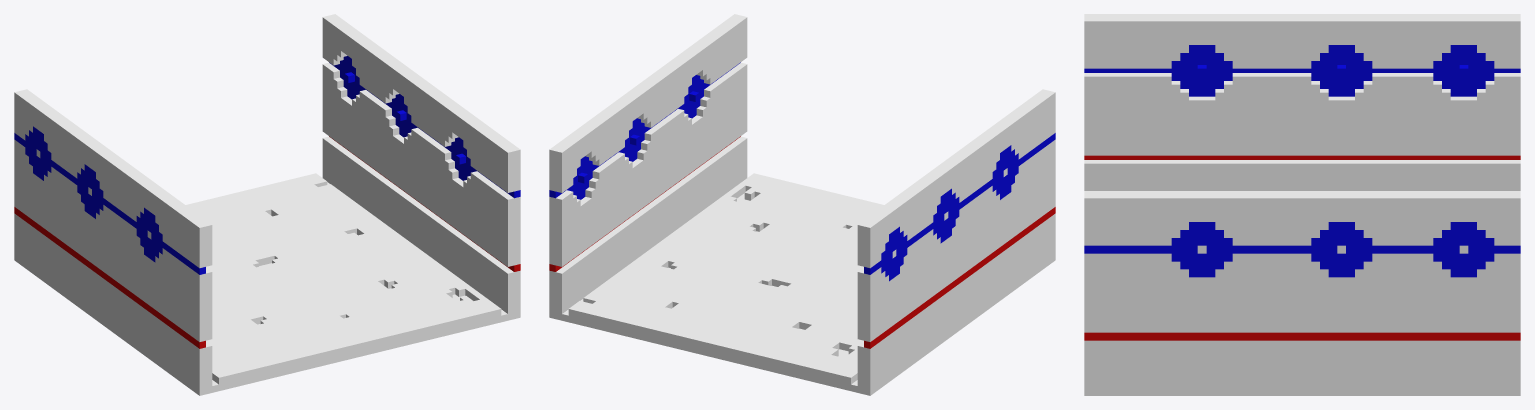
File: corridorStraight02_NoRoof.fbx
3 views of the same model, side by side, from view 1: azimuth 30°, elevation 25°; view 2: azimuth 150°, elevation 25°; view 3: azimuth 270°, elevation 25° (orthographic). The views are drawn at different scales.
Parts seen in each view (by area): view 1: floor1.002, wall_left1.004, wall_left1.003; view 2: floor1.002, wall_left1.004, wall_left1.003; view 3: wall_left1.003, wall_left1.004.
Part boxes in pixels (x1=…): floor1.002: x1=186, y1=173, x2=507, y2=392; wall_left1.004: x1=14, y1=89, x2=212, y2=395; wall_left1.003: x1=322, y1=14, x2=520, y2=320; floor1.002: x1=562, y1=173, x2=883, y2=392; wall_left1.004: x1=857, y1=89, x2=1055, y2=395; wall_left1.003: x1=549, y1=14, x2=747, y2=320; wall_left1.003: x1=1084, y1=191, x2=1520, y2=395; wall_left1.004: x1=1084, y1=14, x2=1520, y2=190.
Bounding box in the file's own units: 4 × 2 × 4.
Materials: 3 (3 with a texture image).
